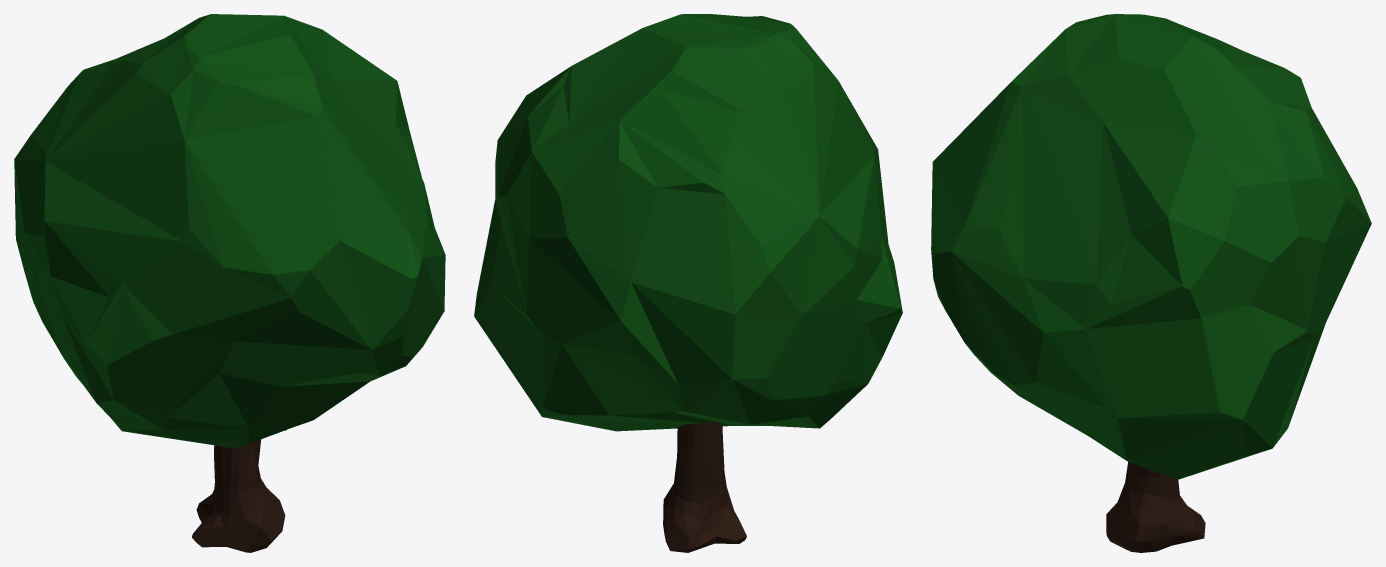
File: SM_tree_03.fbx
3 renders of one model, left to right at view 1: azimuth 30°, elevation 25°; view 2: azimuth 150°, elevation 25°; view 3: azimuth 270°, elevation 25°, orthographic.
Visible parts, largest first — view 1: tree_03; view 2: tree_03; view 3: tree_03.
Boxes of the visible parts, <box> form: tree_03: <box>14,14,445,552</box>; tree_03: <box>474,14,902,552</box>; tree_03: <box>931,14,1371,552</box>.
Size of the model in its own units: 582 by 776 by 614.
